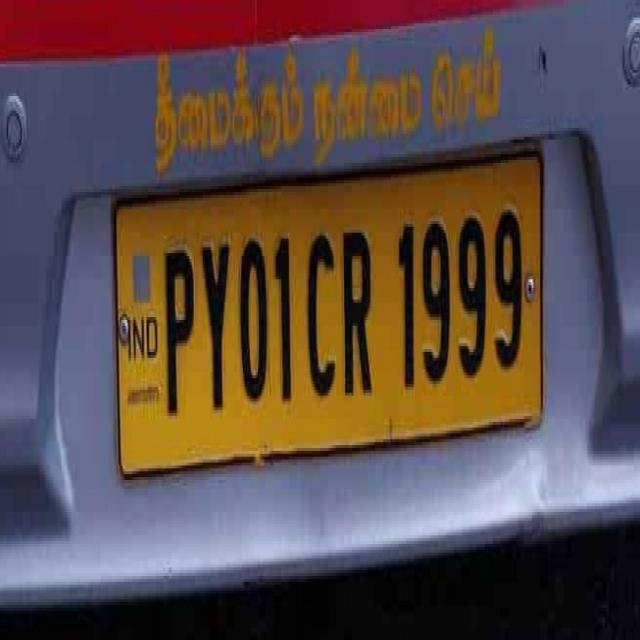0: (236, 238, 272, 420)
1: (270, 218, 301, 426), (391, 202, 418, 421)
9: (452, 185, 490, 408), (492, 181, 526, 387), (423, 179, 453, 398)
C: (301, 196, 340, 414)
P: (162, 223, 199, 432)
R: (344, 218, 378, 420)
Y: (199, 226, 234, 438)
